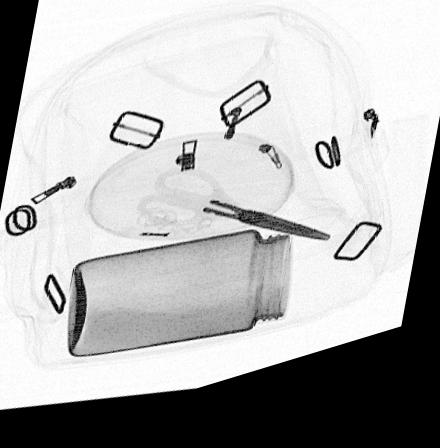Scissors: (134, 175, 333, 261)
